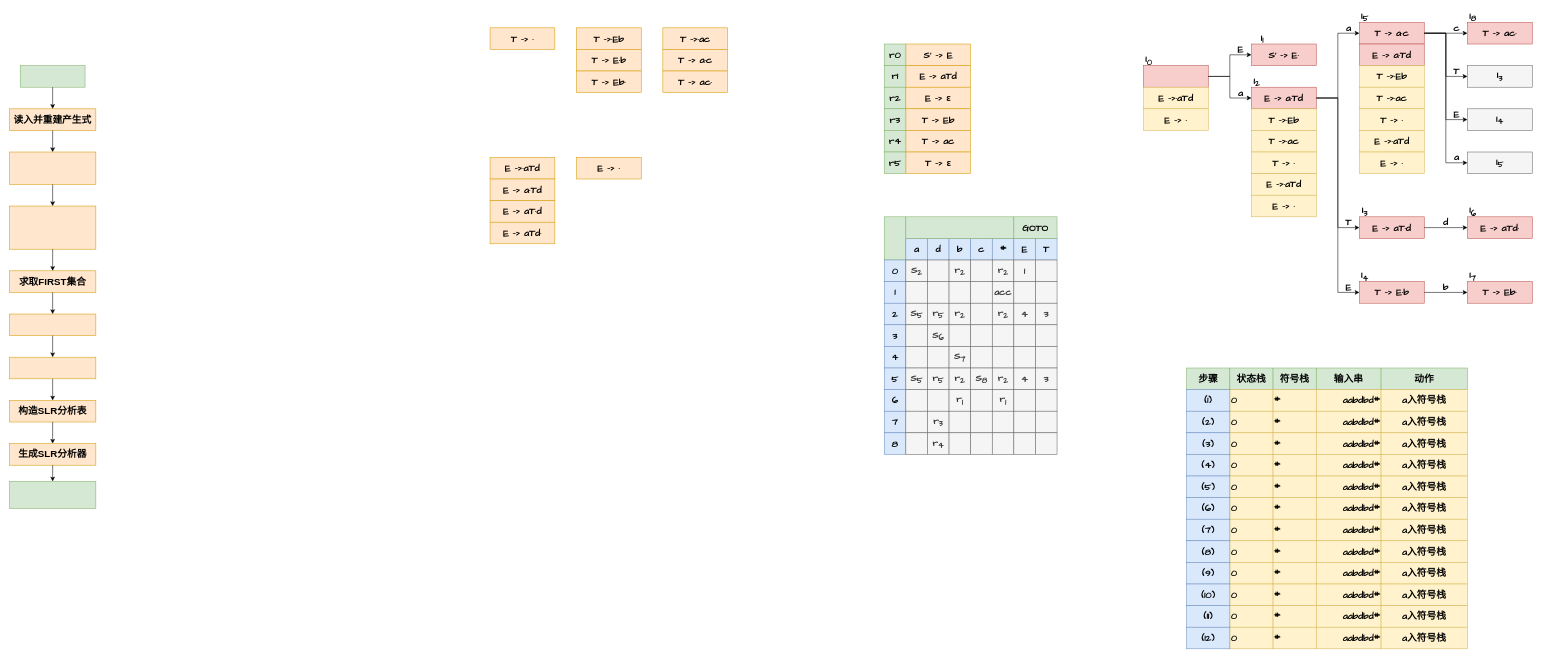
Image size: 1542x658. Some labels were removed from this diagram. The box of each missing label's shape, as (x1, y1, x2, y2) in pixels:
ACTION: (905, 216, 1014, 238)
S' -> · E: (1143, 65, 1208, 87)
主程序入口: (20, 65, 85, 87)
分析产生式获取终结符与非终结符: (9, 151, 96, 184)
划分非终结符为可导出空串和不可导出空串: (9, 205, 96, 249)
构造项目及规范簇: (9, 357, 96, 379)
求取FOLLOW集合: (9, 313, 96, 336)
状 态: (884, 216, 906, 260)
等待输入串进行的分析: (9, 481, 96, 508)
